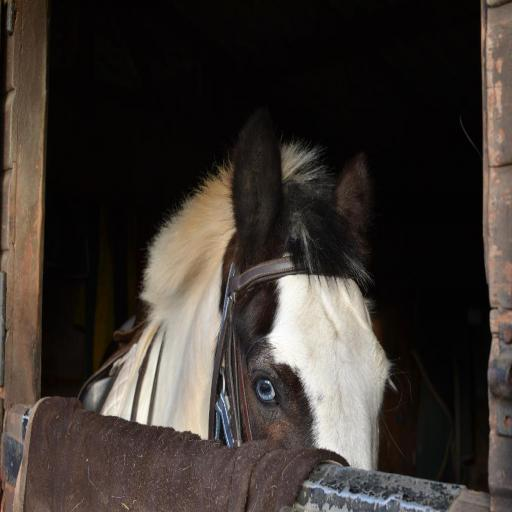Horse: (76, 109, 413, 472)
